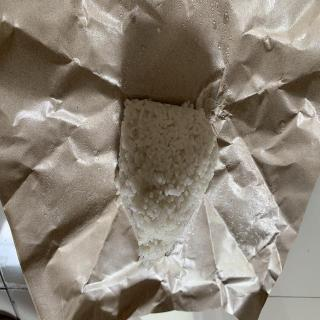Nasi: (117, 102, 219, 263)
